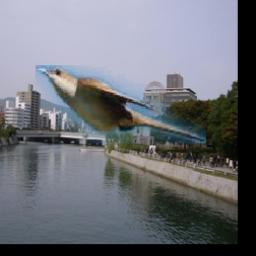Cuckoo: (36, 66, 206, 144)
